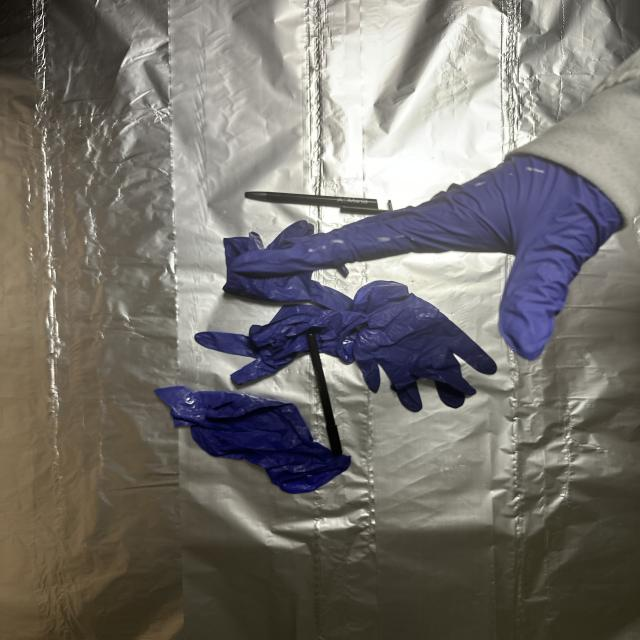gloves_contaminated: (234, 156, 621, 360)
